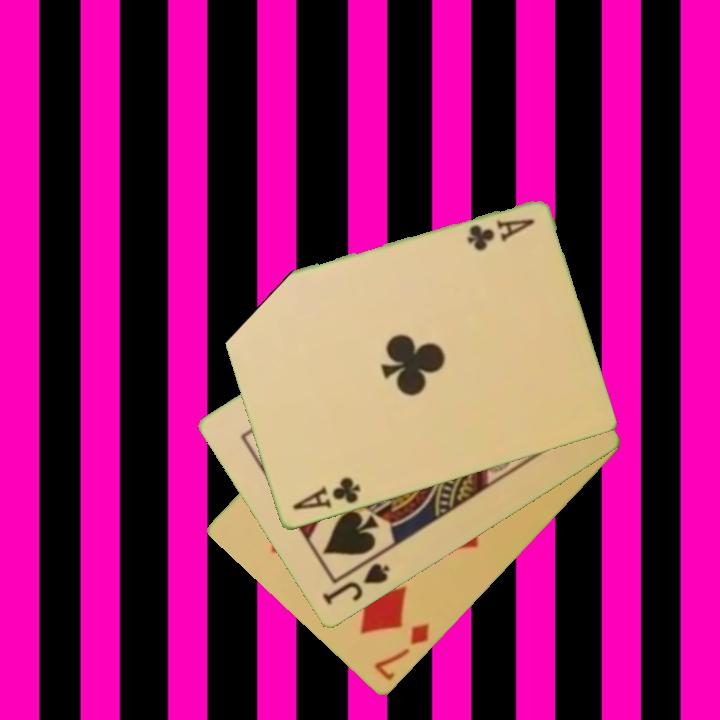7d: (370, 620, 433, 685)
Ac: (288, 474, 363, 514), (463, 216, 538, 254)
Js: (318, 560, 393, 609)
